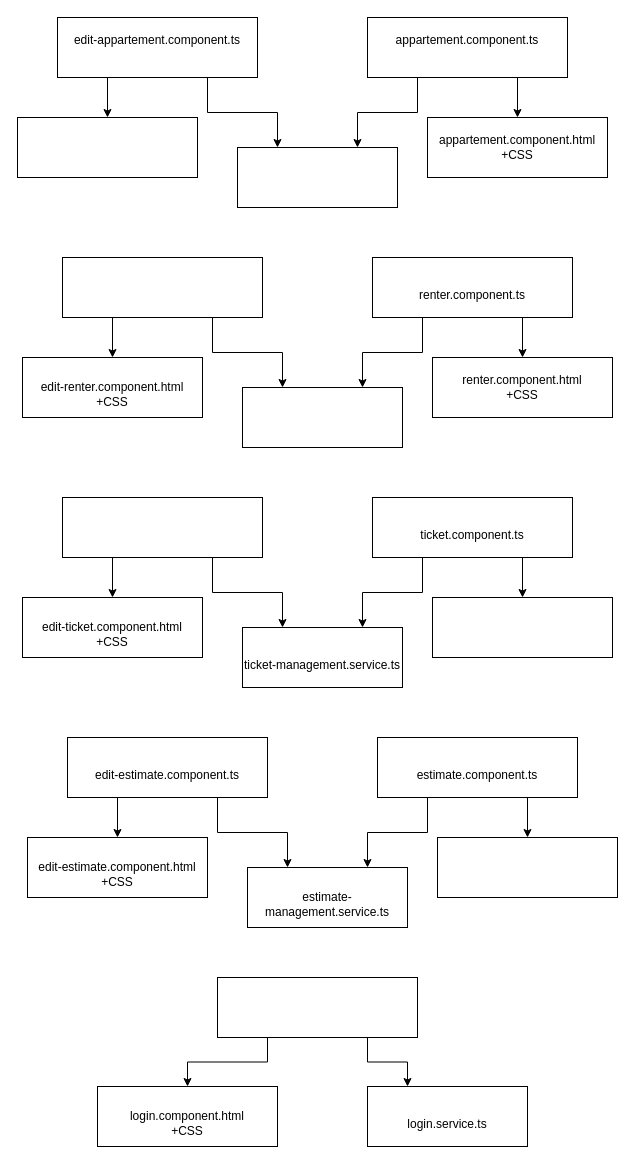
This 635x1164 diagram has some shape labels left out. The centre of each missing label's shape, as x and y in pixels:
"edit-appartement.component.html +CSS" belongs at point (107, 147).
"edit-renter.component.ts" belongs at point (162, 287).
"edit-ticket.component.ts" belongs at point (162, 527).
"estimate.component.html +CSS" belongs at point (527, 867).
"login.component.ts" belongs at point (317, 1007).
"property-management.service.ts" belongs at point (317, 177).
"renter-management.service.ts" belongs at point (322, 417).
"ticket.component.html +CSS" belongs at point (522, 627).
